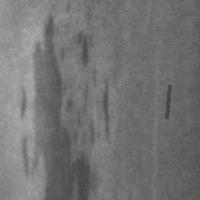inclusion: (18, 10, 101, 198), (65, 67, 108, 146), (73, 29, 98, 70), (164, 83, 171, 120)
